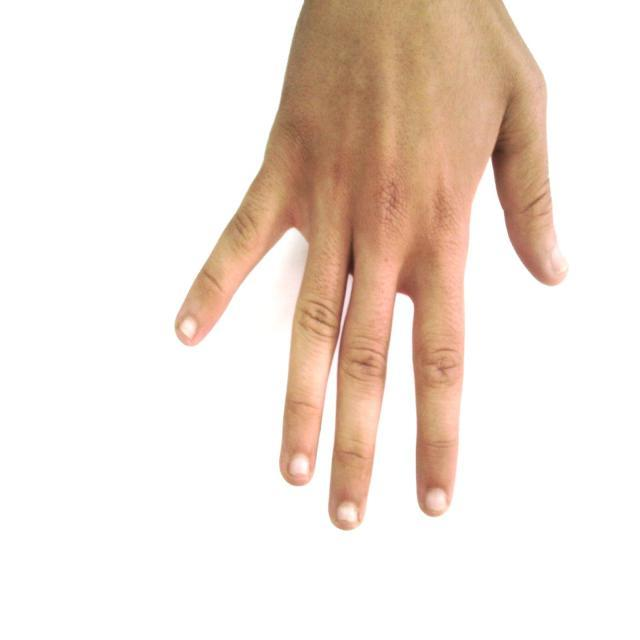Fingernail: (336, 500, 359, 520), (426, 489, 447, 510), (179, 316, 198, 339), (551, 247, 567, 274), (290, 454, 309, 474)
